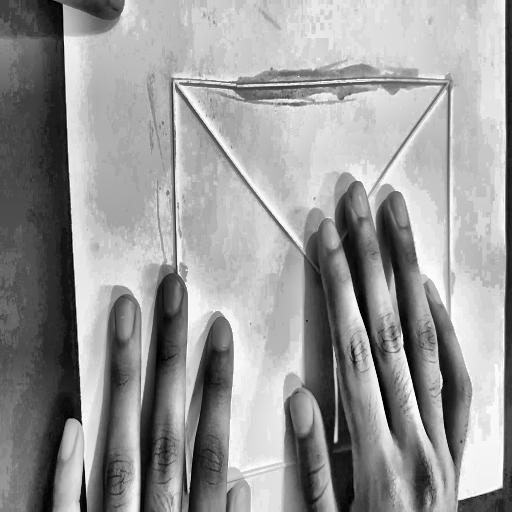bottom_right: (498, 479, 506, 492)
envelop: (162, 62, 467, 511)
